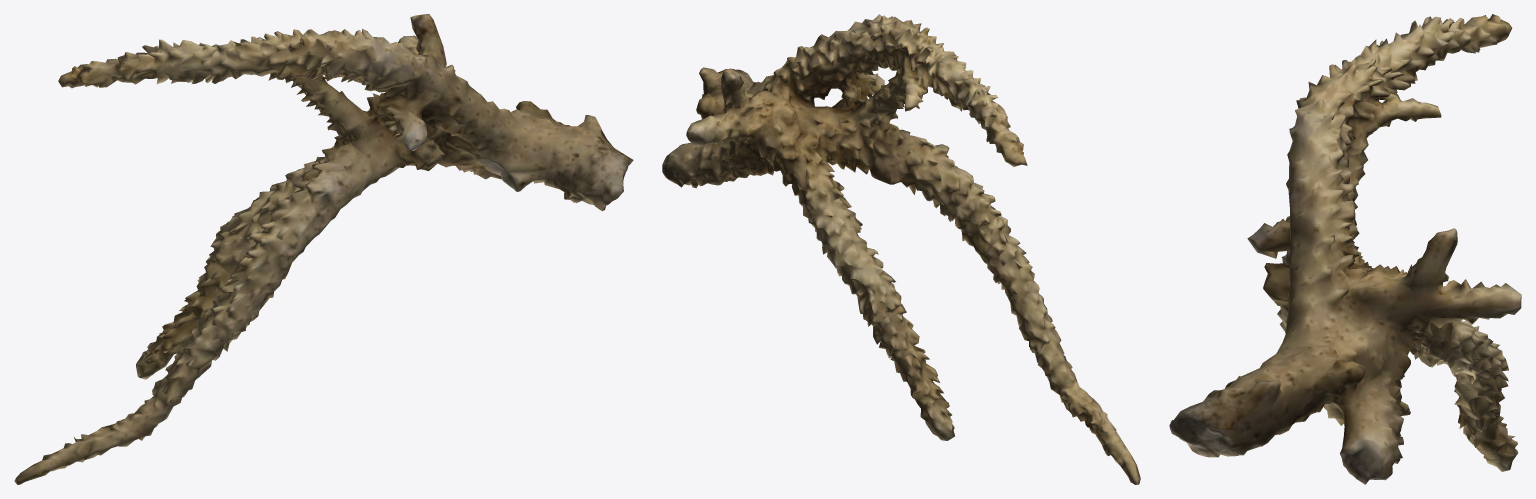
File: valenciennesi.glb
3 renders of one model, left to right at view 1: azimuth 30°, elevation 25°; view 2: azimuth 150°, elevation 25°; view 3: azimuth 270°, elevation 25°, orthographic. The views are drawn at different scales.
Bounding box in the file's own units: 0.1326 × 0.0959 × 0.0606.
Materials: 1 (1 with a texture image).
